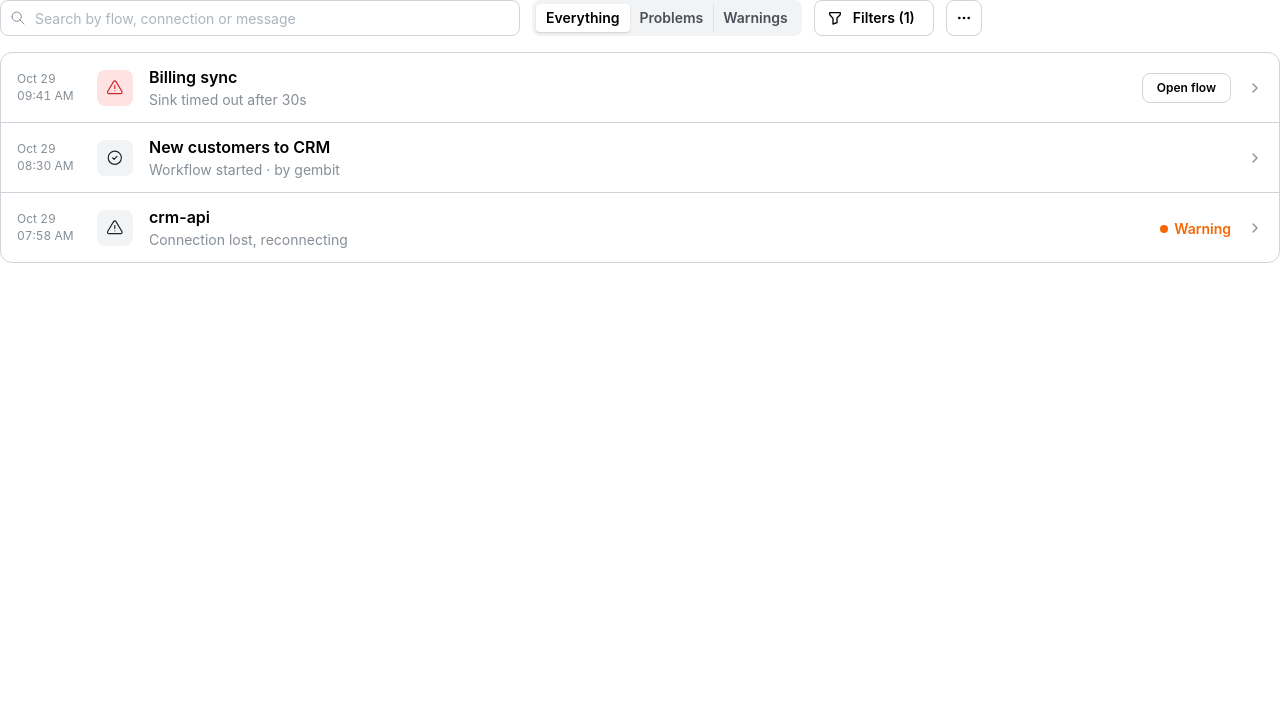
Test: the activity feed › keeps the flow, level and action filters, and starts from a flow in the URL
Expected: the text "Billing sync" is shown, [149,67,237,87]
Click the button "Filters (1)": click(874, 18) [814,0,934,36]
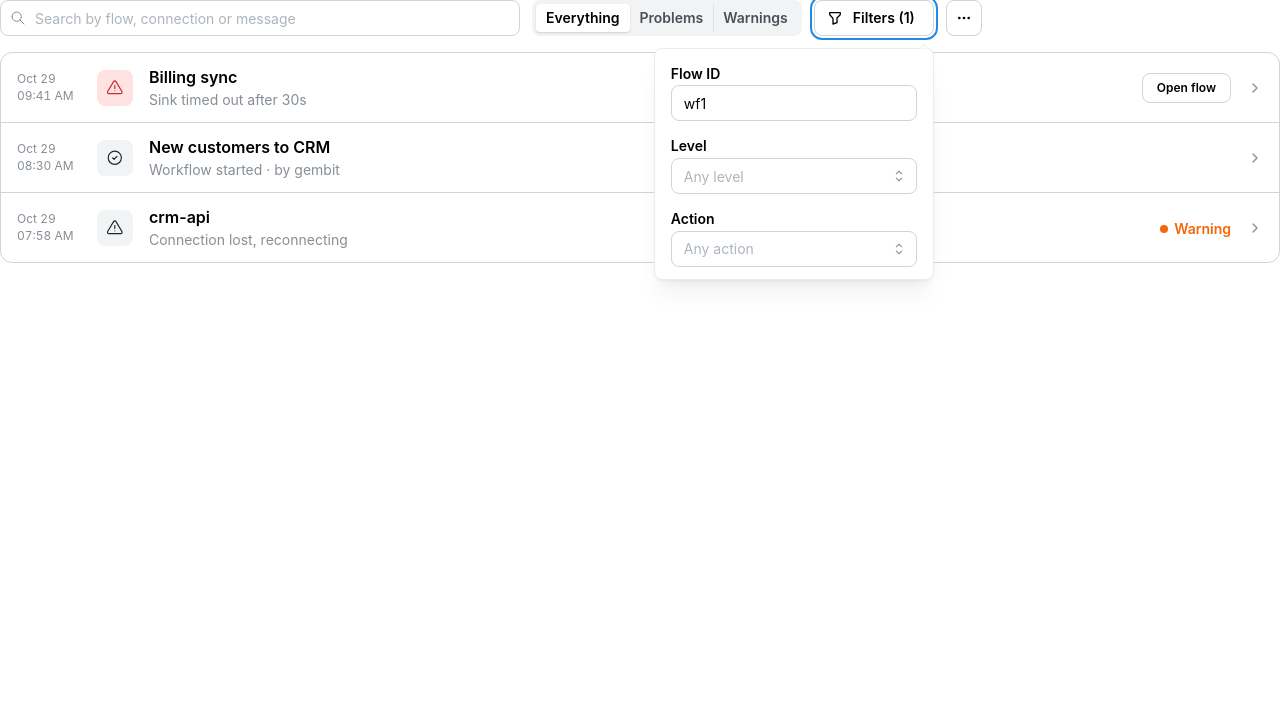
Now the field labelled "Flow ID" holds "wf1", box [671,85,917,121]
Now the dropdown labelled "Level" is shown, box [671,158,917,194]
Now the dropdown labelled "Action" is shown, box [671,231,917,267]
